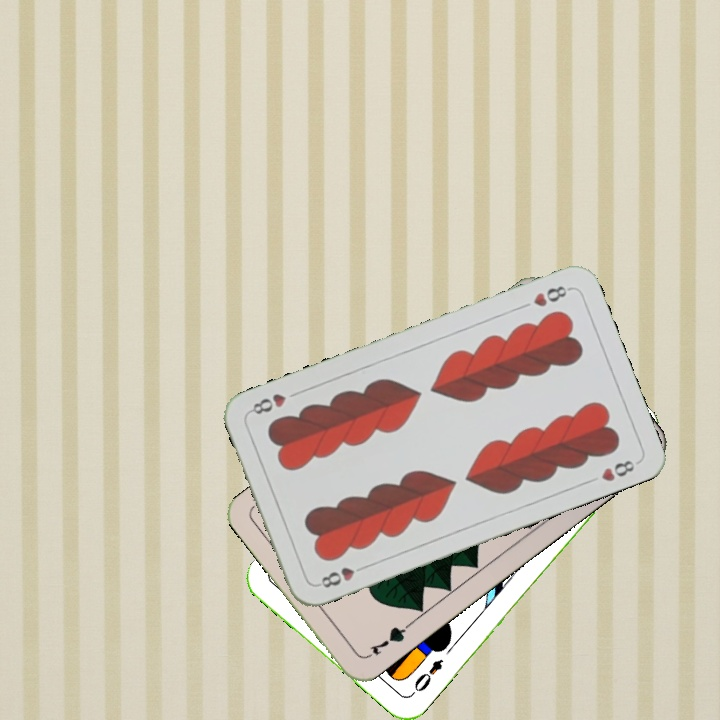EO: (407, 655, 446, 698)
G7: (362, 619, 412, 661)
H8: (313, 560, 370, 591), (529, 281, 574, 310)
